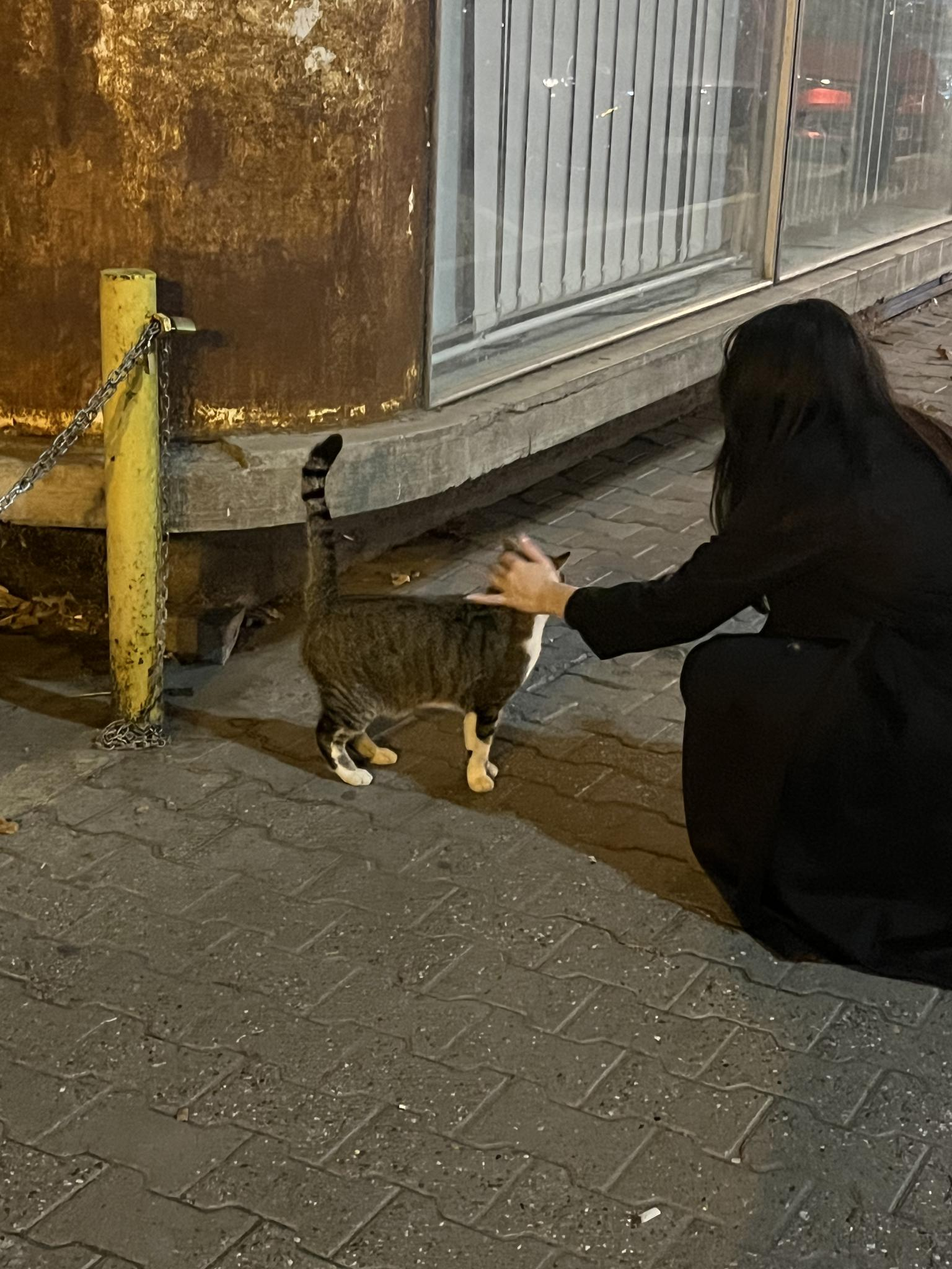macka: (297, 432, 572, 795)
